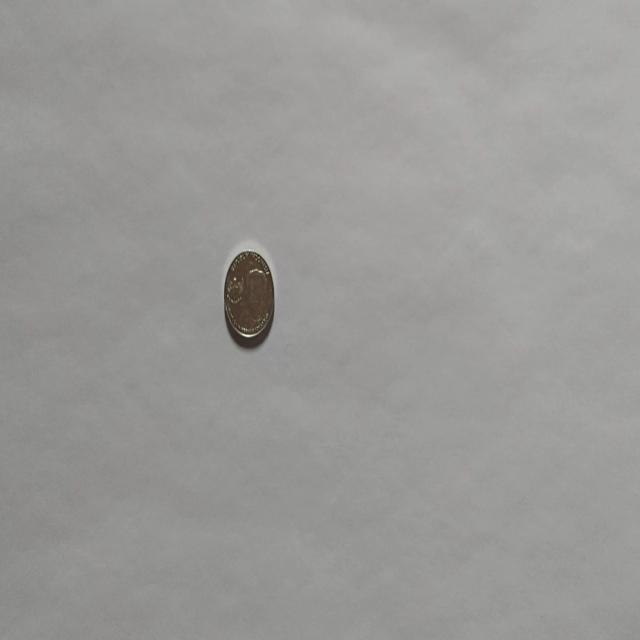seratus rupiah: (222, 248, 274, 345)
